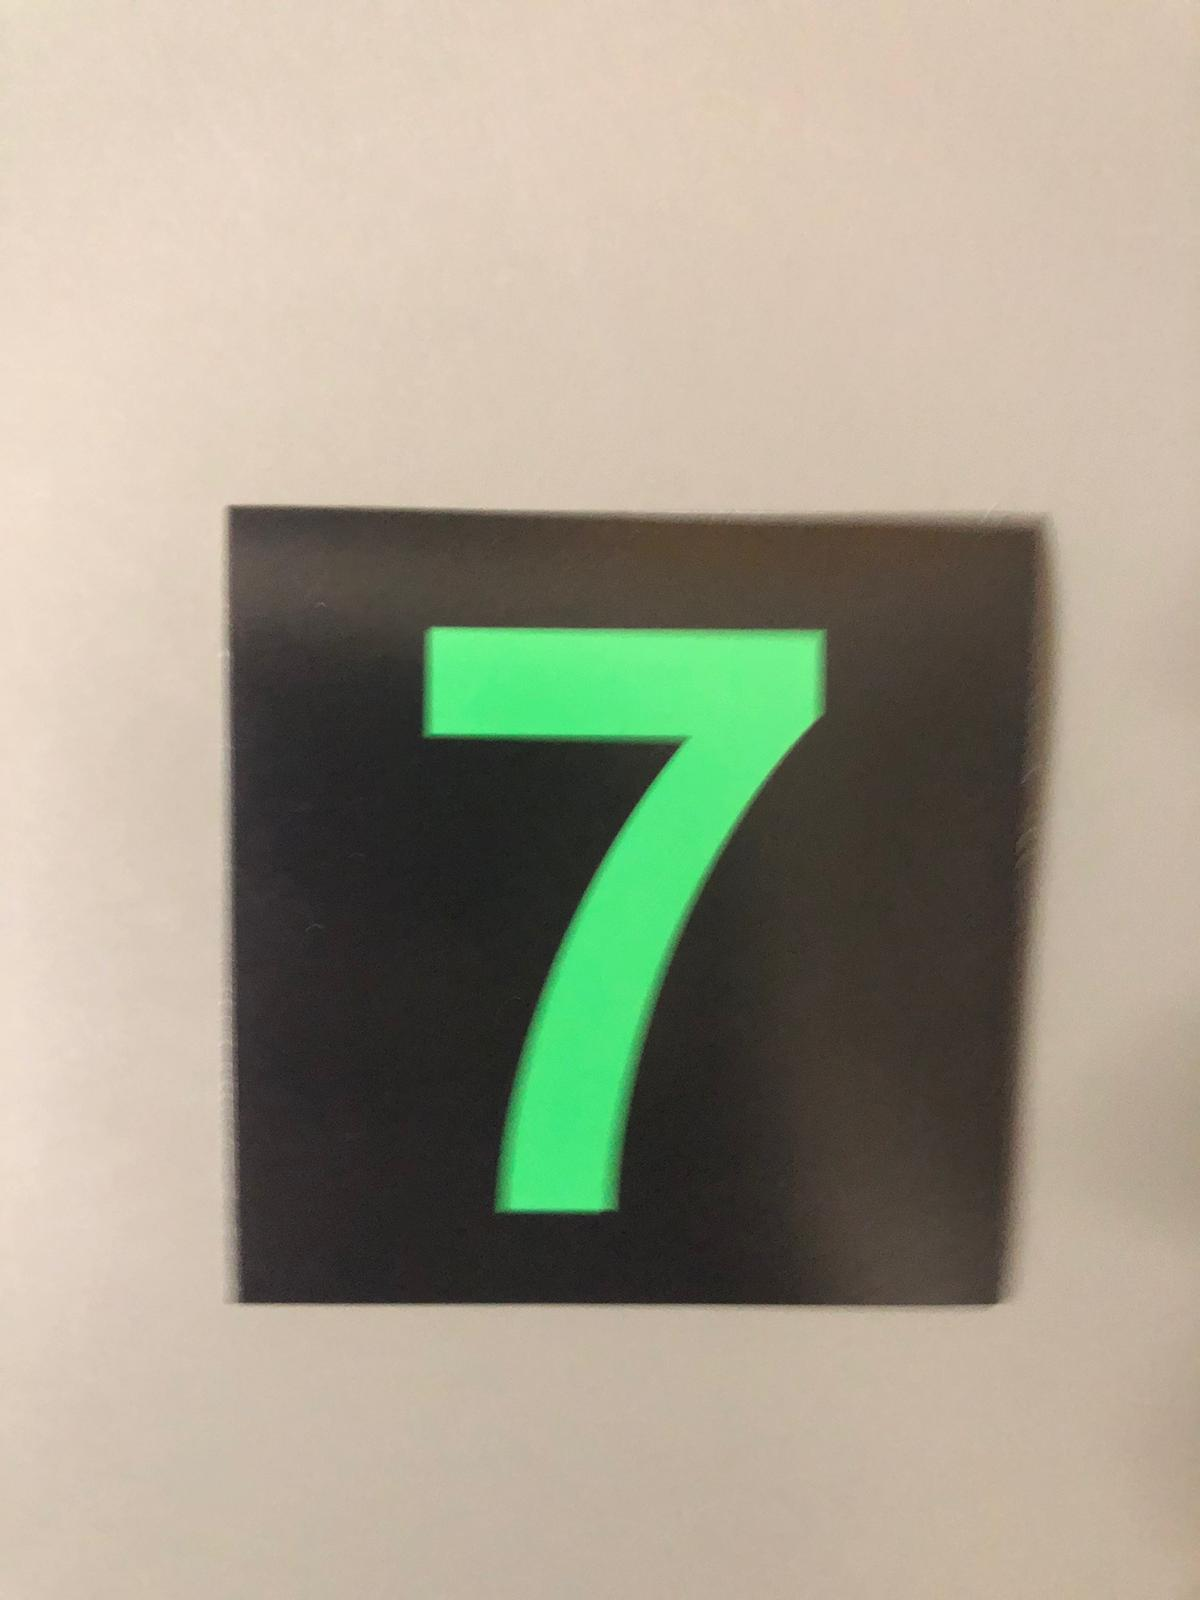Number 7: (241, 518, 1010, 1308)
